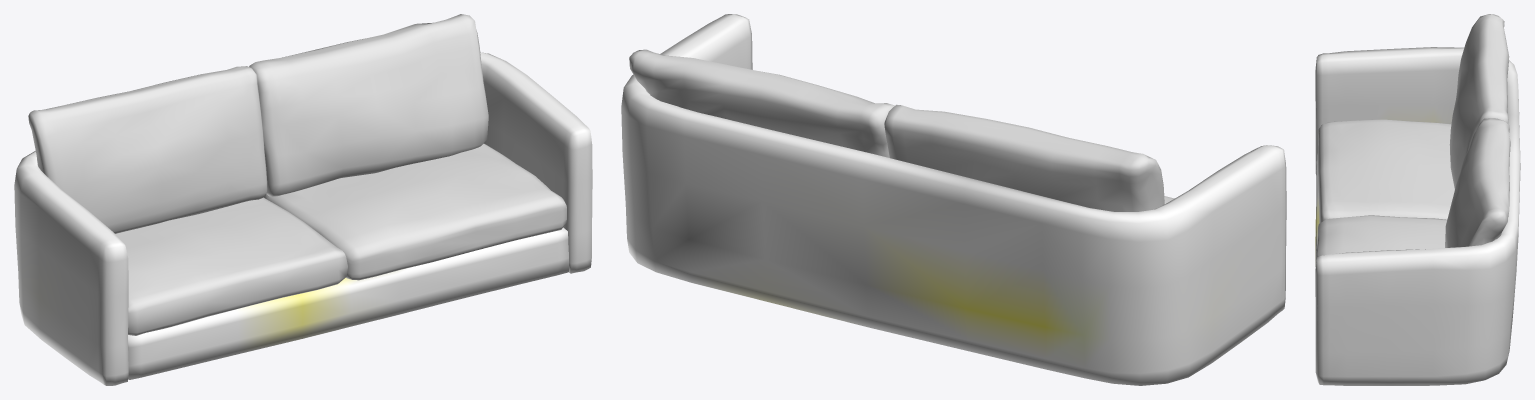
File: divan.fbx
3 renders of one model, left to right at view 1: azimuth 30°, elevation 25°; view 2: azimuth 150°, elevation 25°; view 3: azimuth 270°, elevation 25°, orthographic. The views are drawn at different scales.
Visible parts, largest first — view 1: object_0, object_1; view 2: object_1, object_0; view 3: object_1, object_0.
Part boxes in pixels (x1,y1,x2,y2): object_0: [28, 14, 566, 335]; object_1: [14, 52, 592, 385]; object_1: [621, 14, 1286, 385]; object_0: [629, 49, 1174, 211]; object_1: [1315, 47, 1520, 385]; object_0: [1315, 14, 1510, 263].
Size of the model in its own units: 200 by 76.91 by 81.83.
